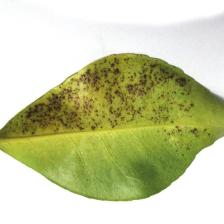canker: (34, 80, 168, 128)
